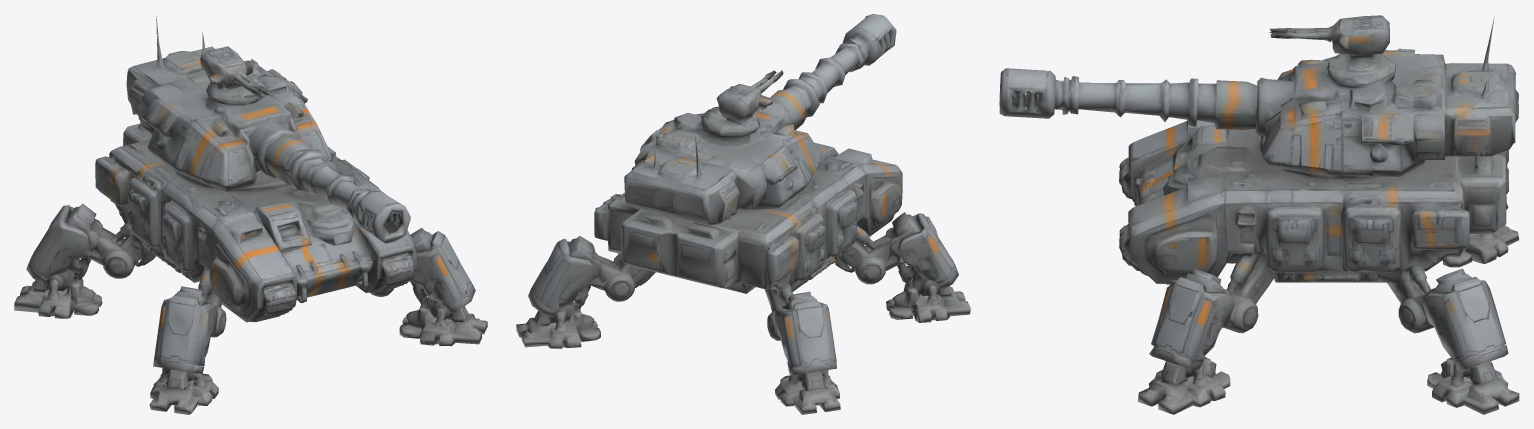
Rendered from siege_tank.glb.
3 views of the same model, side by side, from view 1: azimuth 30°, elevation 25°; view 2: azimuth 150°, elevation 25°; view 3: azimuth 270°, elevation 25° (orthographic). The views are drawn at different scales.
Visible parts, largest first — view 1: tripo_node_550026b2-fce0-485a-a213-9dd0b835f01a; view 2: tripo_node_550026b2-fce0-485a-a213-9dd0b835f01a; view 3: tripo_node_550026b2-fce0-485a-a213-9dd0b835f01a.
Part boxes in pixels (x1=…): tripo_node_550026b2-fce0-485a-a213-9dd0b835f01a: x1=14, y1=16, x2=487, y2=414; tripo_node_550026b2-fce0-485a-a213-9dd0b835f01a: x1=516, y1=14, x2=970, y2=414; tripo_node_550026b2-fce0-485a-a213-9dd0b835f01a: x1=999, y1=15, x2=1519, y2=414.
Bounding box in the file's own units: 2.92 × 2.12 × 3.4.
Materials: 1 (1 with a texture image).
